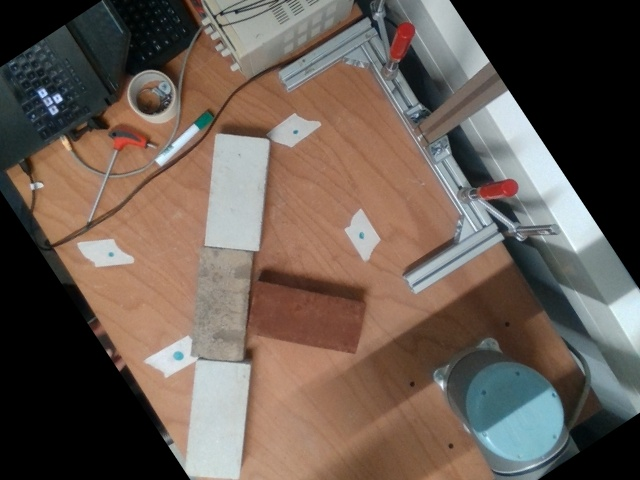brick: (247, 285, 363, 352), (186, 360, 249, 479), (205, 136, 266, 249), (191, 249, 250, 361)
